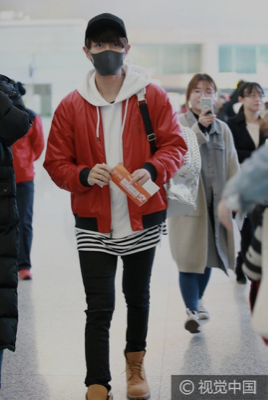with_mask: (91, 41, 126, 76)
without_mask: (193, 86, 214, 112), (245, 90, 265, 112)
